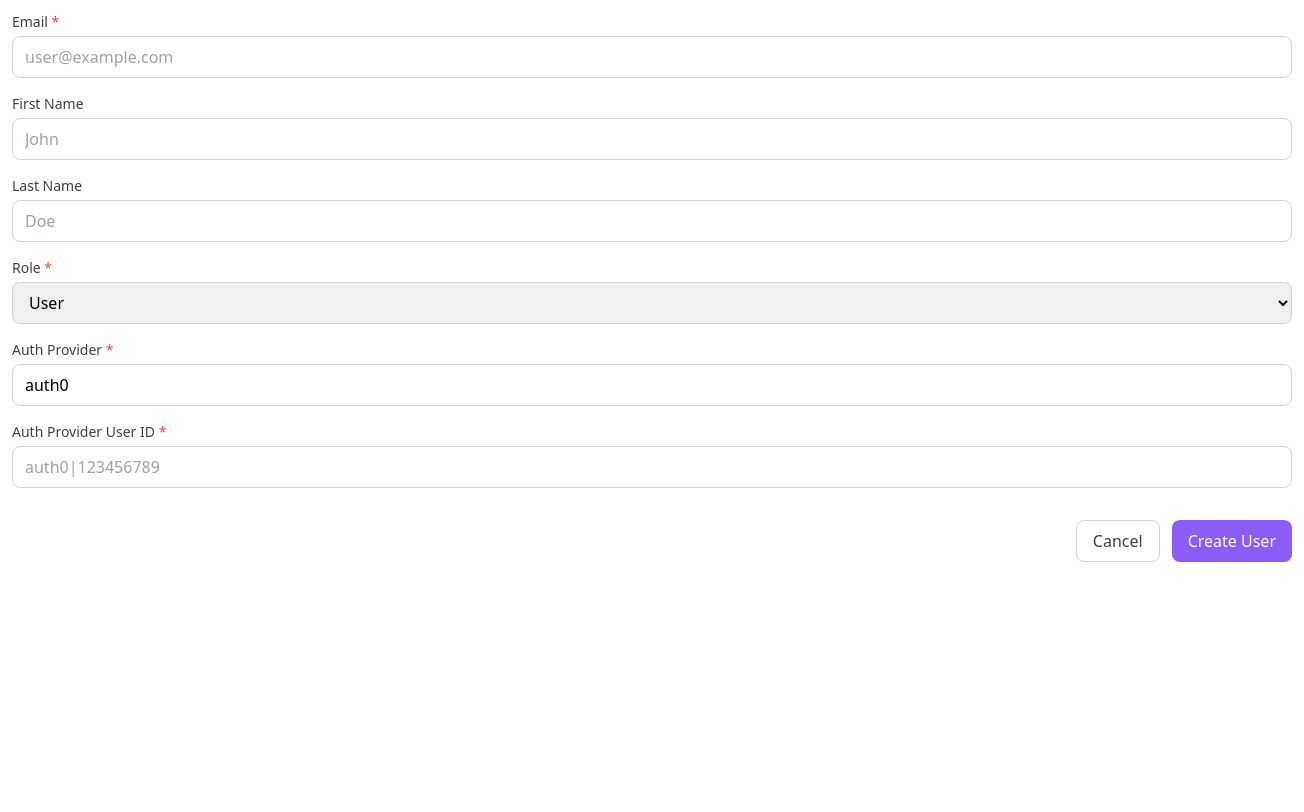
Test case: UserForm › shows spinner during form submission
The image size is (1304, 812).
Type "test@example.com" into the field labelled "Email *" at (652, 57), box [12,36,1292,78]
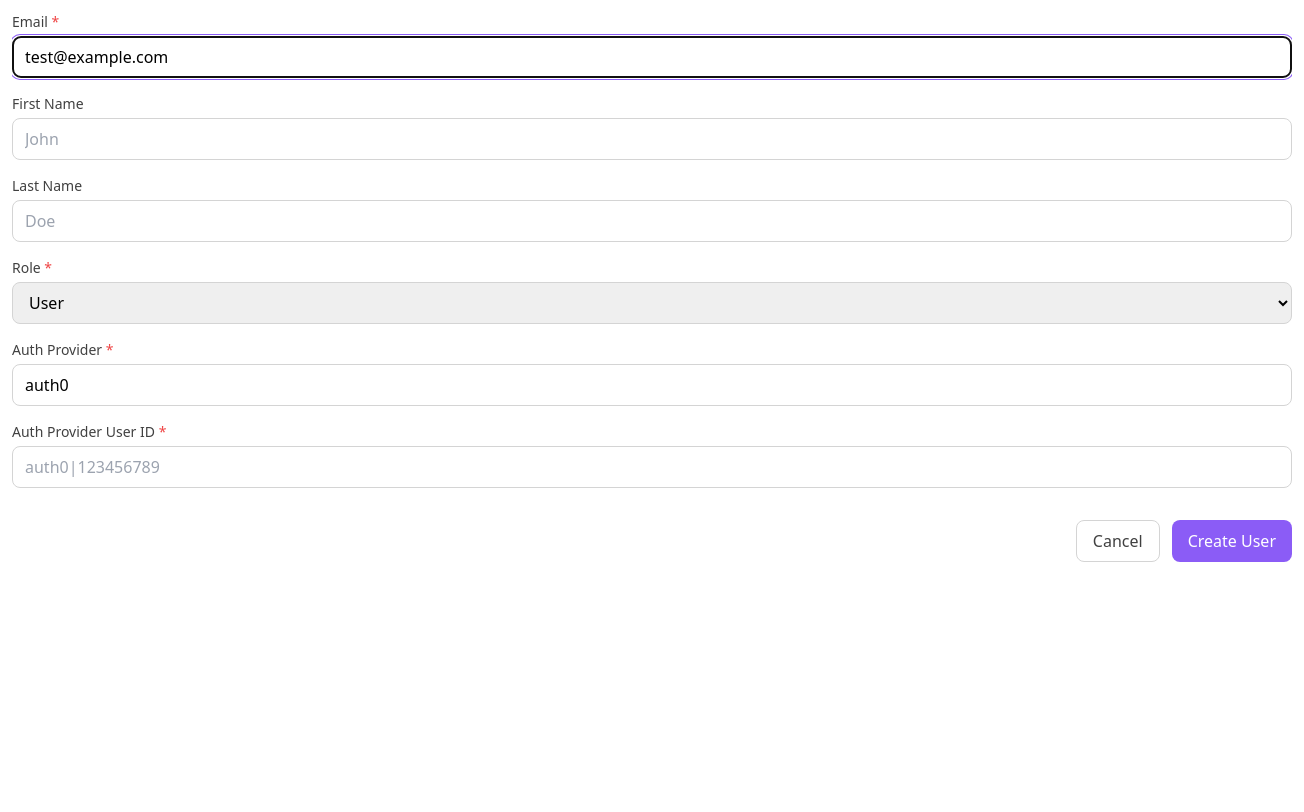
Type "auth0|test" into the field labelled "Auth Provider User ID *" at (652, 467), box [12,446,1292,488]
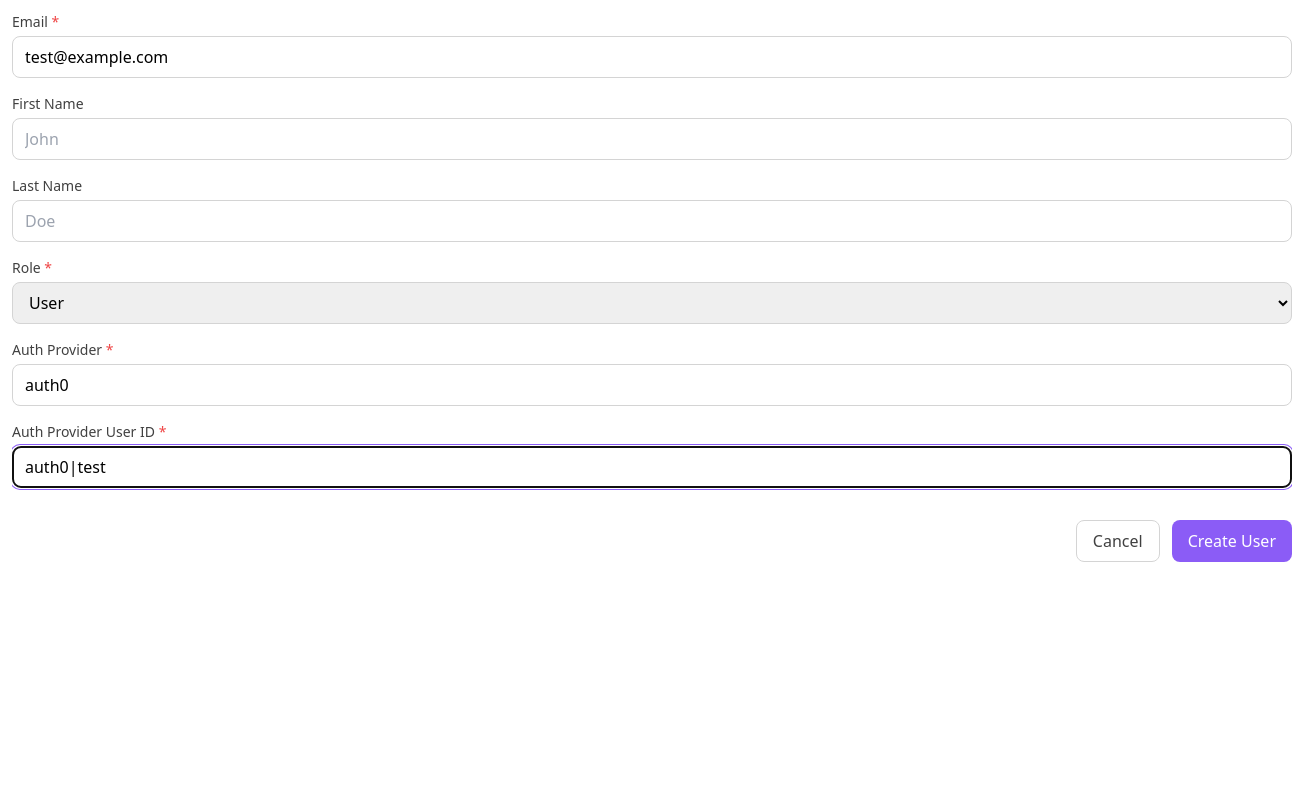
Click the button "Create User" at (1232, 541), box [1172,520,1292,562]
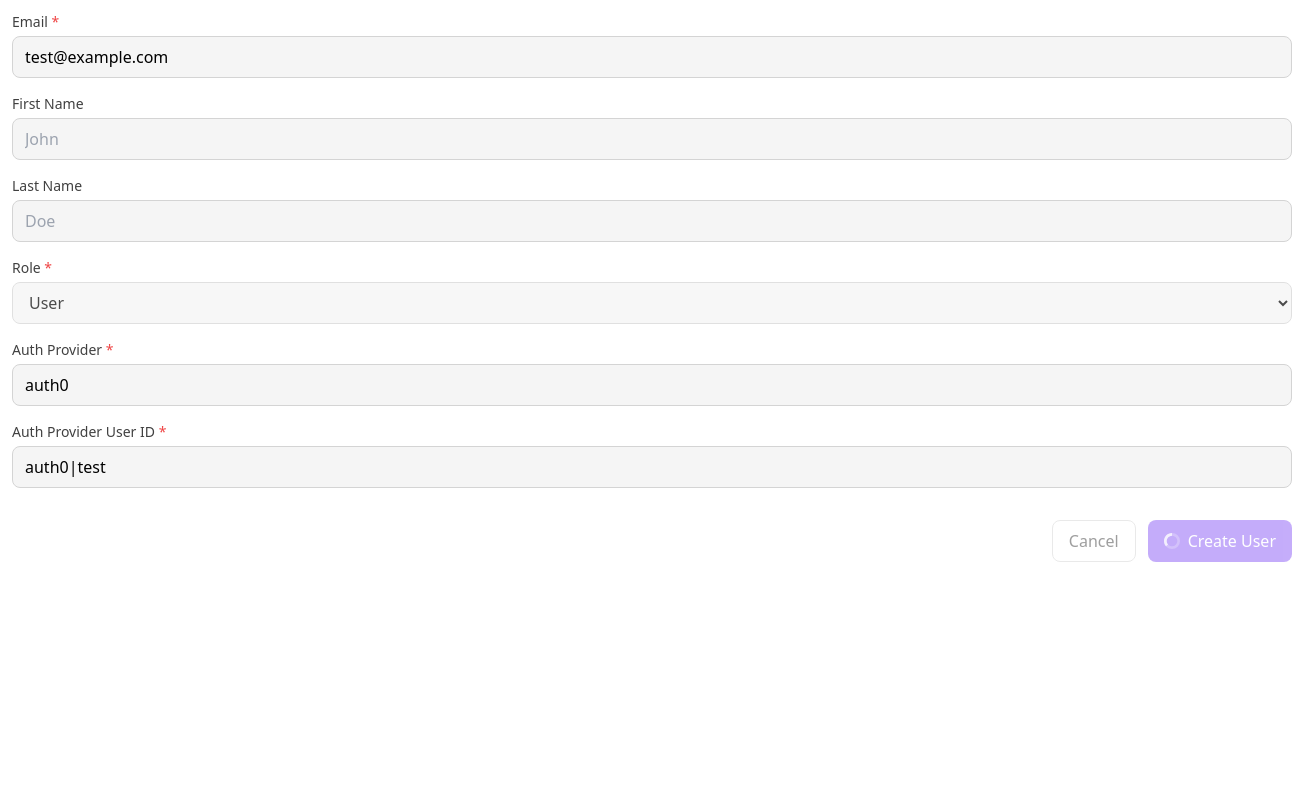
Check: the button "Create User" is disabled, box [1148,520,1292,562]
Check: the icon with class "animate-spin" is shown, box [1164,533,1180,549]
